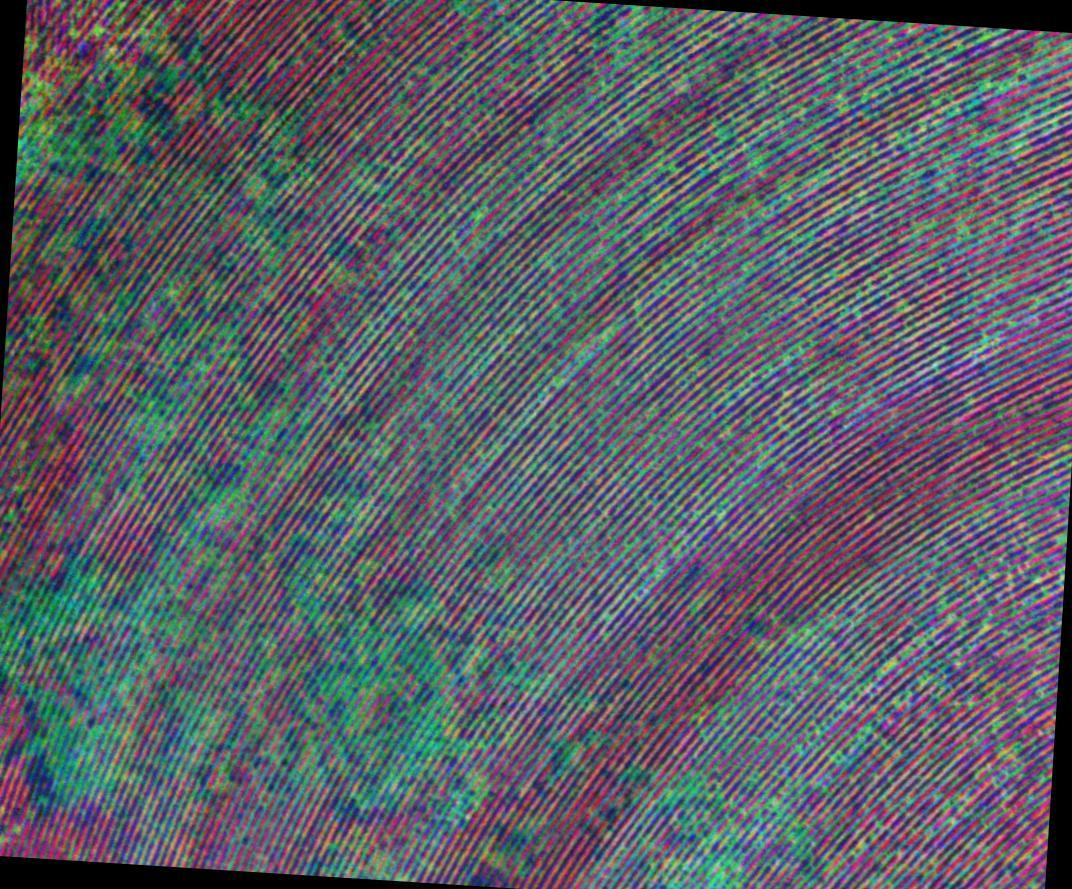dc: (636, 306, 640, 311), (220, 332, 225, 336), (985, 337, 989, 342), (836, 93, 840, 98), (714, 122, 718, 126), (724, 179, 728, 183), (266, 258, 270, 262), (1038, 300, 1042, 304), (761, 453, 765, 457), (653, 572, 657, 576), (607, 617, 611, 621), (668, 794, 672, 798), (982, 85, 986, 89), (717, 873, 721, 877), (902, 303, 906, 306), (286, 475, 290, 478), (210, 497, 213, 501), (943, 604, 946, 608), (775, 805, 778, 809), (877, 823, 880, 827), (789, 836, 792, 840), (733, 866, 736, 870), (803, 627, 806, 630), (720, 710, 723, 713), (831, 757, 834, 760), (669, 883, 672, 886)
